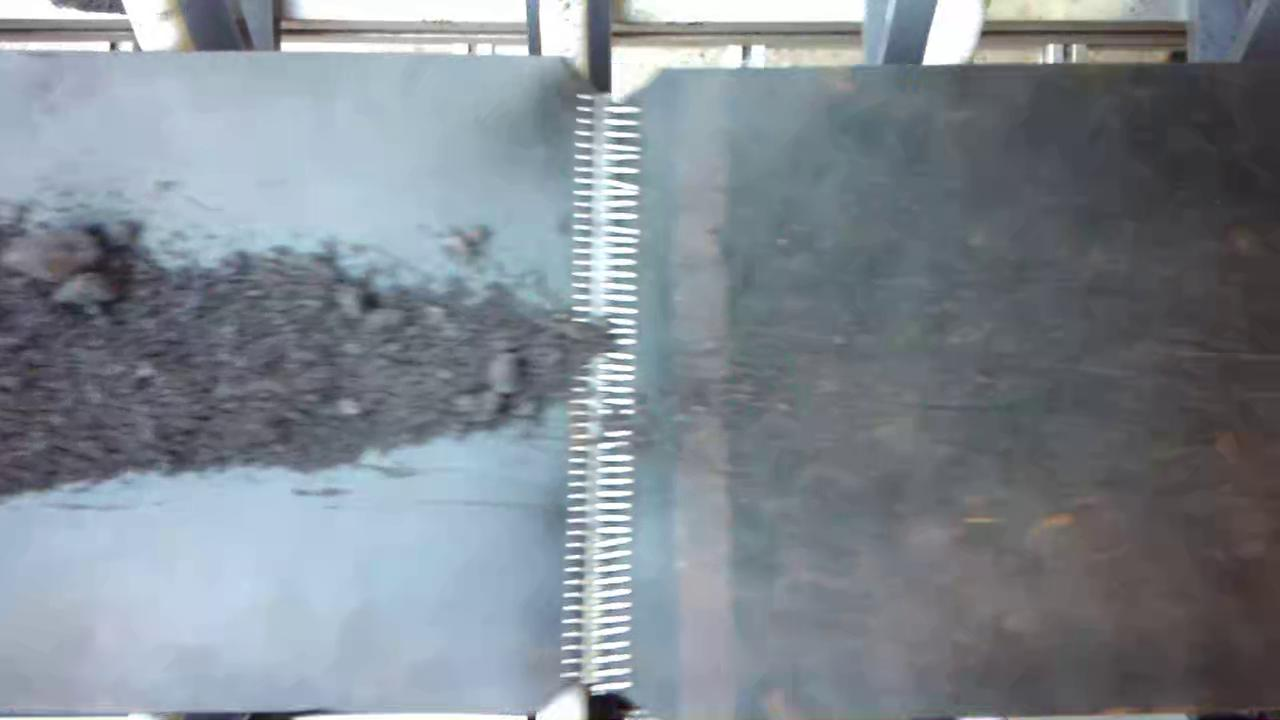conveyor: (6, 84, 1274, 696)
